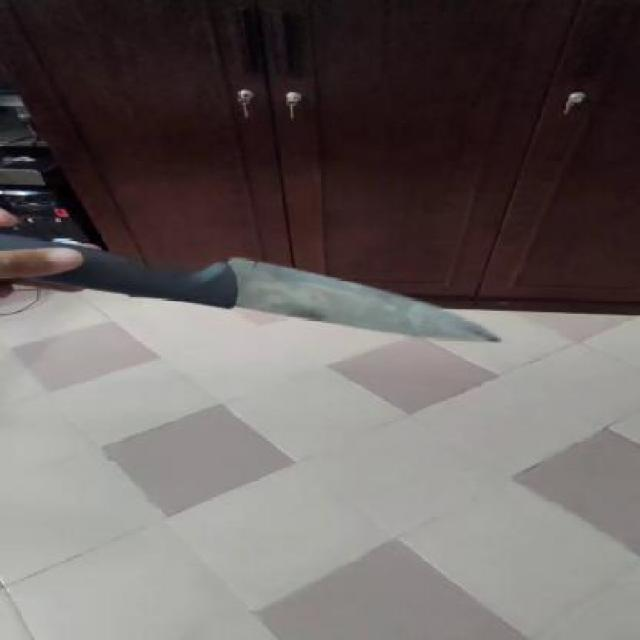-: (188, 252, 522, 357)
